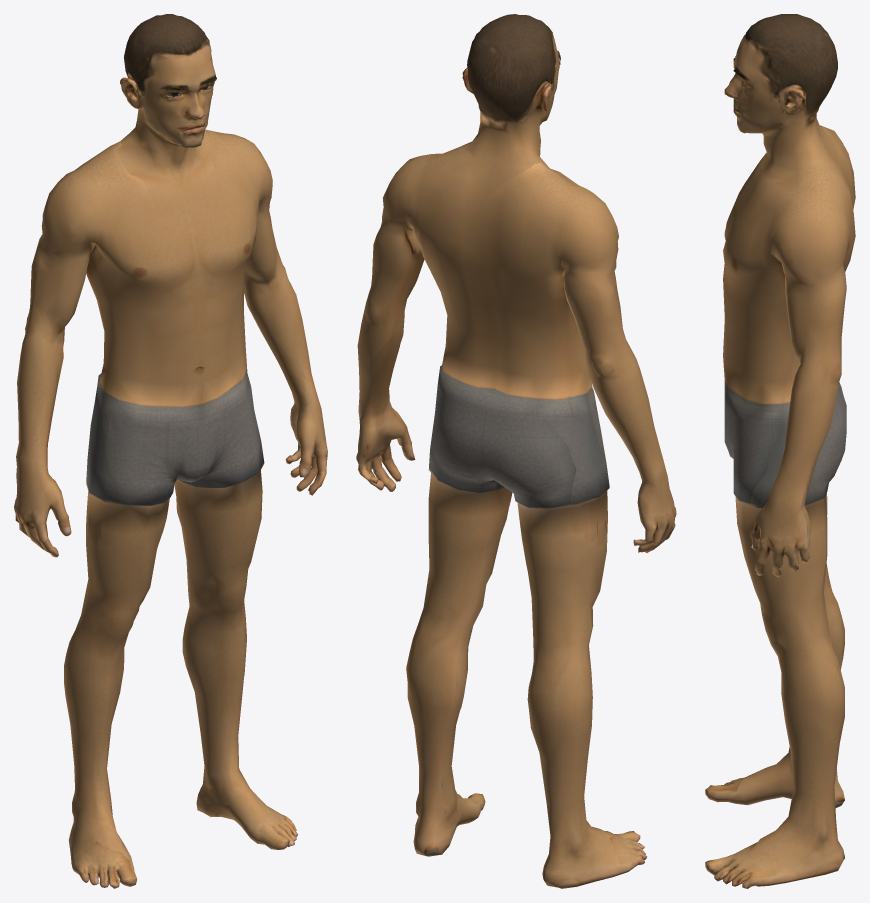
File: human figure 3d model.glb
3 renders of one model, left to right at view 1: azimuth 30°, elevation 25°; view 2: azimuth 150°, elevation 25°; view 3: azimuth 270°, elevation 25°, orthographic.
Parts seen in each view (by area): view 1: tripo_node_5b4d1f84-addf-4b8b-bb40-3c6bc32a42f2; view 2: tripo_node_5b4d1f84-addf-4b8b-bb40-3c6bc32a42f2; view 3: tripo_node_5b4d1f84-addf-4b8b-bb40-3c6bc32a42f2.
Part boxes in pixels (bbox=[...]): tripo_node_5b4d1f84-addf-4b8b-bb40-3c6bc32a42f2: bbox=[14, 14, 327, 888]; tripo_node_5b4d1f84-addf-4b8b-bb40-3c6bc32a42f2: bbox=[356, 14, 676, 888]; tripo_node_5b4d1f84-addf-4b8b-bb40-3c6bc32a42f2: bbox=[705, 14, 855, 888].
Bounding box in the file's own units: 0.3848 × 0.998 × 0.166.
1 material, 1 textured.
